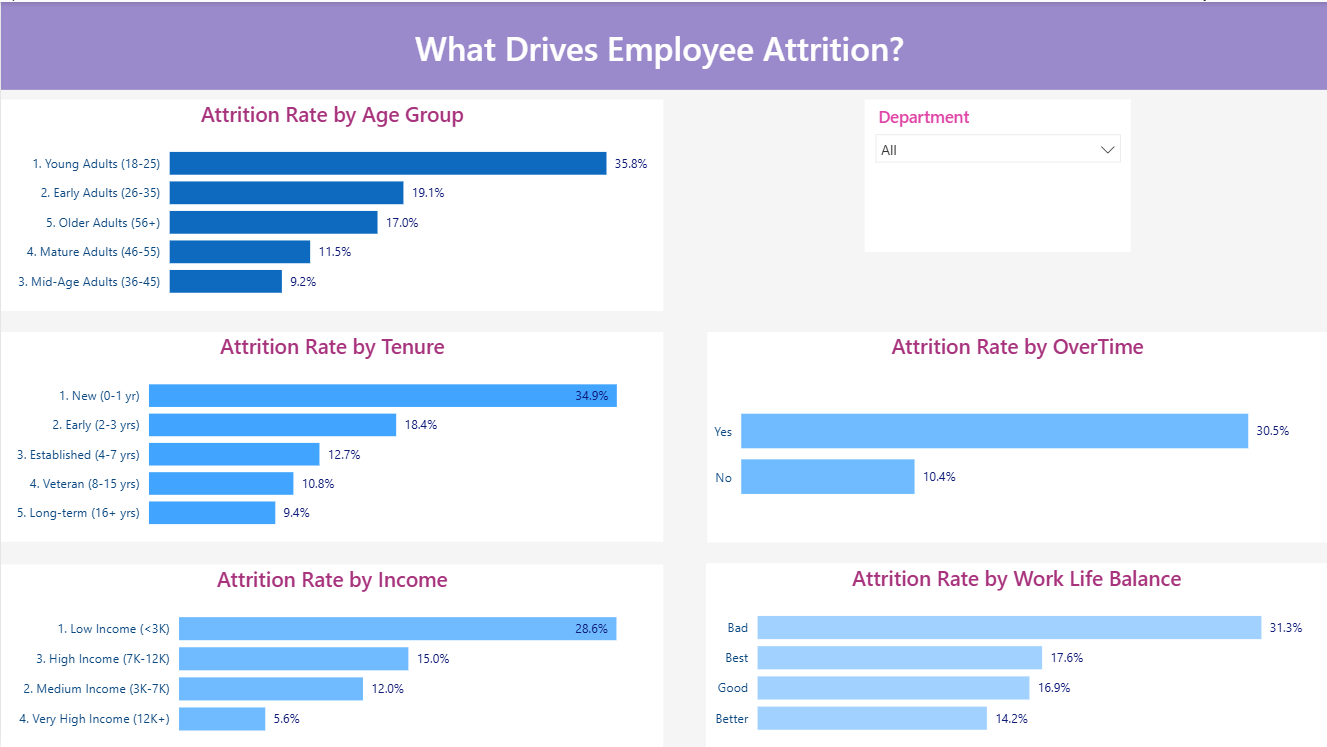

What the dashboard file says about the page in this screenshot:
{"tool":"powerbi","page":{"name":"Attrition Drivers","canvas":[1280,720],"ordinal":1},"visuals":[{"type":"textbox","box":[0,0,1280,84.5],"z":0},{"type":"clusteredBarChart","title":"Attrition Rate by Income","fields":{"Y":["Measures Table.Attrition Rate"],"Category":["HR.Income Group"]},"box":[0,542.9,639,178],"z":1000},{"type":"barChart","title":"Attrition Rate by Tenure","fields":{"Y":["Measures Table.Attrition Rate"],"Category":["HR.Tenure Group"]},"box":[0,318.5,639.4,202.7],"z":2000},{"type":"slicer","fields":{"Values":["HR.Department"]},"box":[833.7,94.1,257,147.2],"z":3000},{"type":"barChart","fields":{"Y":["Measures Table.Attrition Rate"],"Category":["HR.Age Group"]},"box":[0,94.1,639.4,203.9],"z":4000},{"type":"clusteredBarChart","fields":{"Y":["Measures Table.Attrition Rate"],"Category":["HR.OverTime"]},"box":[681.6,318,599,203],"z":5000},{"type":"clusteredBarChart","title":"Attrition Rate by Work Life Balance","fields":{"Y":["Measures Table.Attrition Rate"],"Category":["HR.WorkLifeBalance"]},"box":[680.4,541.7,599.6,178.6],"z":6000}]}

Visuals, with their boxes in screenshot pixels (x1, y1, x2, y2), scaled from the page's 1280x720 canvas onto the 1327x747 screenshot:
textbox: [0, 0, 1326, 88]
"Attrition Rate by Income" clusteredBarChart: [0, 563, 662, 746]
"Attrition Rate by Tenure" barChart: [0, 330, 663, 541]
slicer - HR.Department: [864, 98, 1131, 250]
barChart - Measures Table.Attrition Rate x HR.Age Group: [0, 98, 663, 309]
clusteredBarChart - Measures Table.Attrition Rate x HR.OverTime: [707, 330, 1326, 541]
"Attrition Rate by Work Life Balance" clusteredBarChart: [705, 562, 1326, 746]
